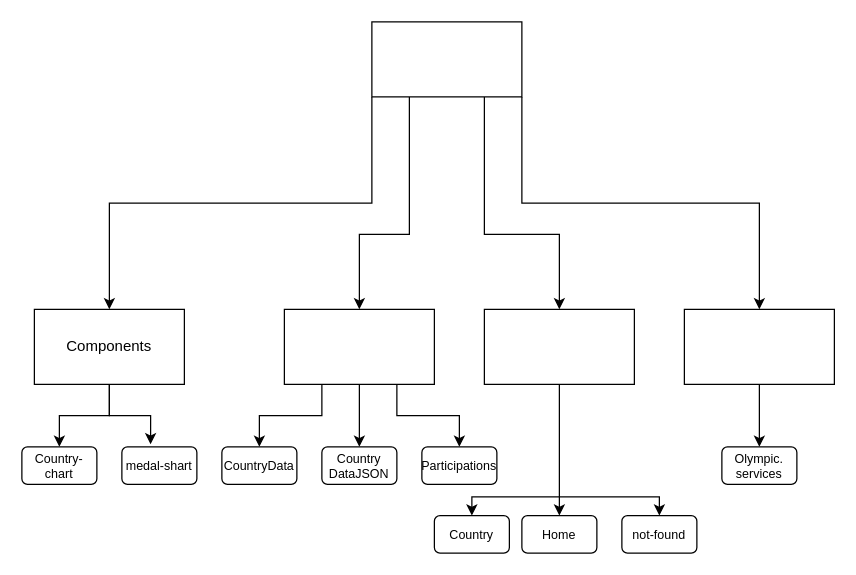
This 856x575 diagram has some shape labels left out. The shapes that lost their labels are listed below. From the top down, each one's centre as x and y in pixels, then its label:
point (446, 59): src /app
point (358, 346): Models
point (558, 346): Page
point (758, 346): Services
